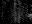person: (26, 11, 31, 17)
